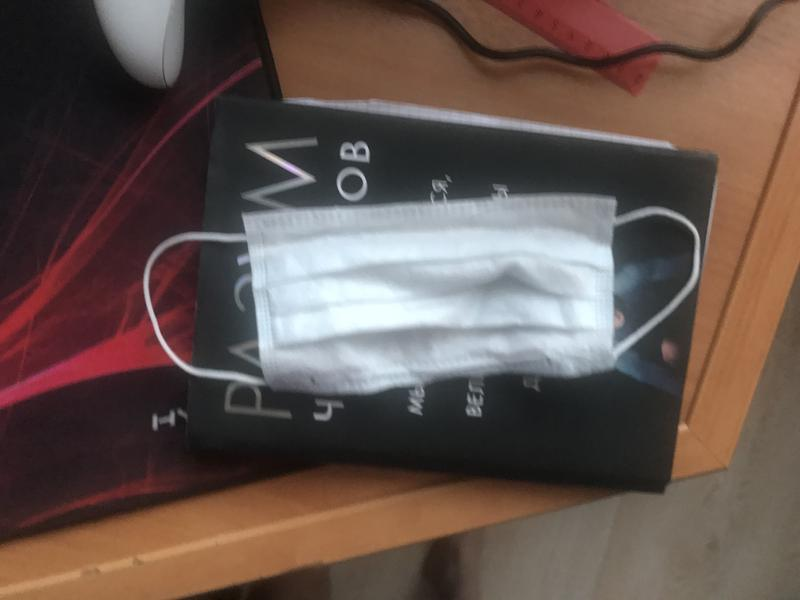medical_mask: (143, 193, 702, 391)
